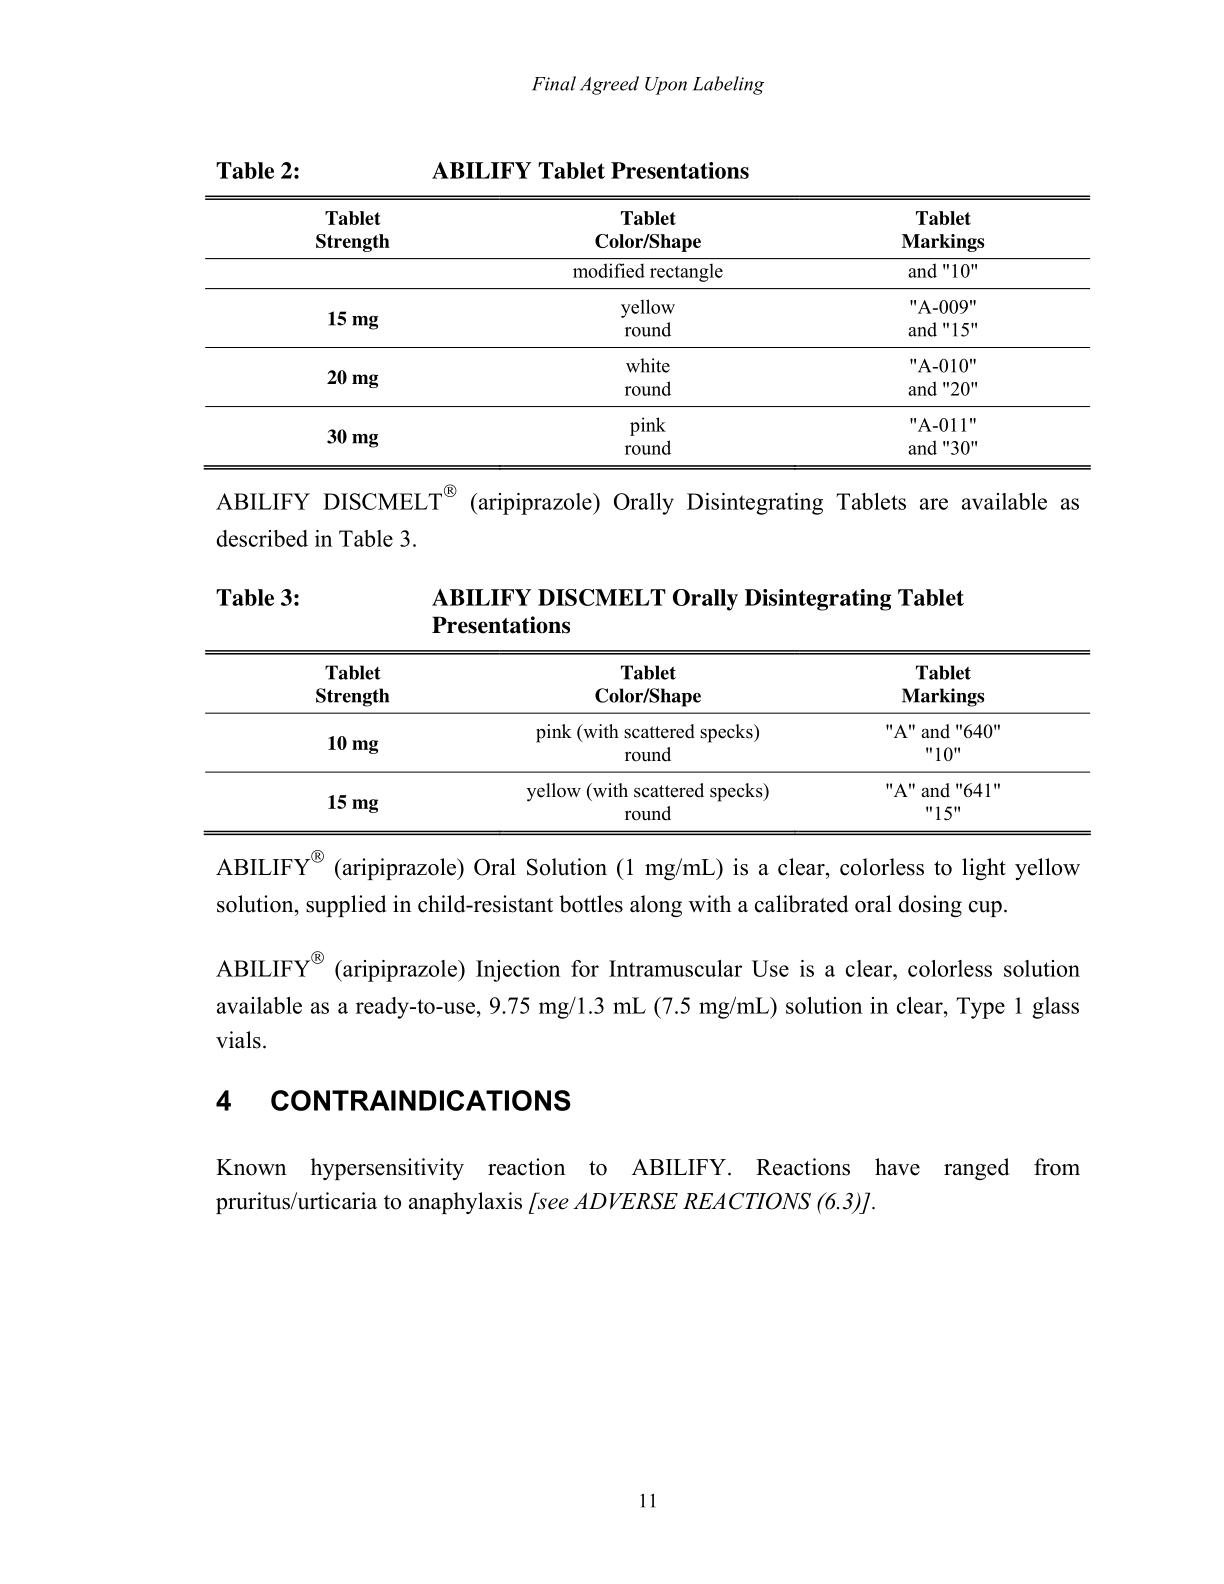partial_lined: (203, 195, 1092, 471), (204, 647, 1092, 837)
